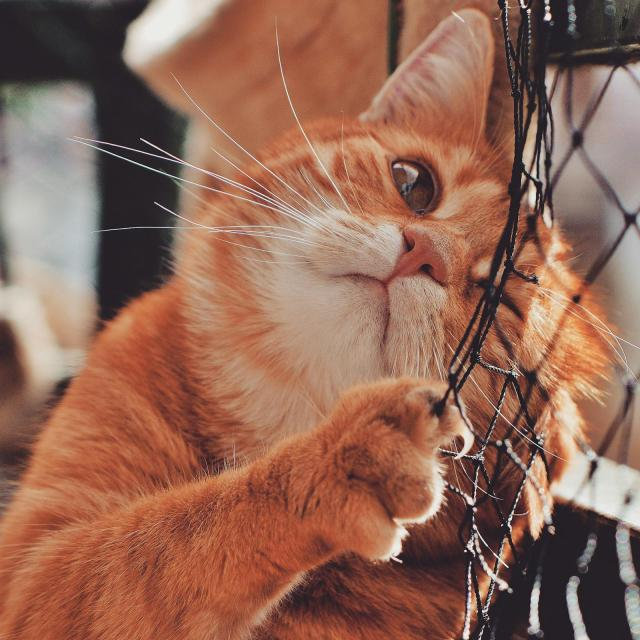Cat: (1, 7, 634, 638)
